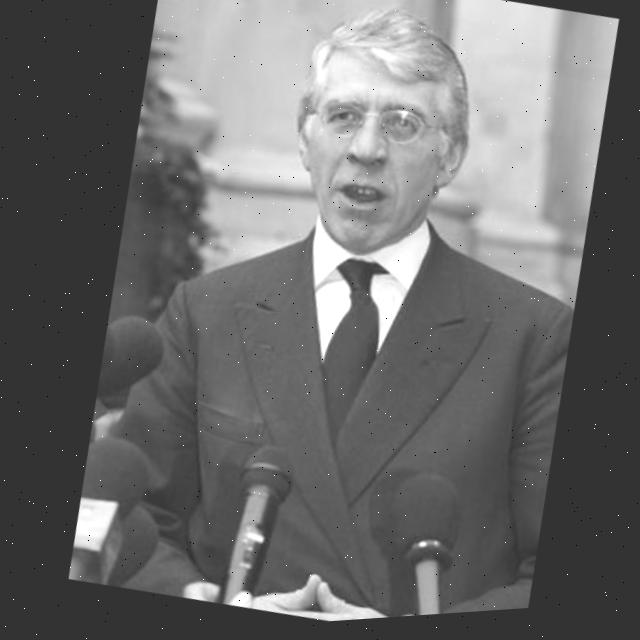face: (279, 36, 477, 267)
